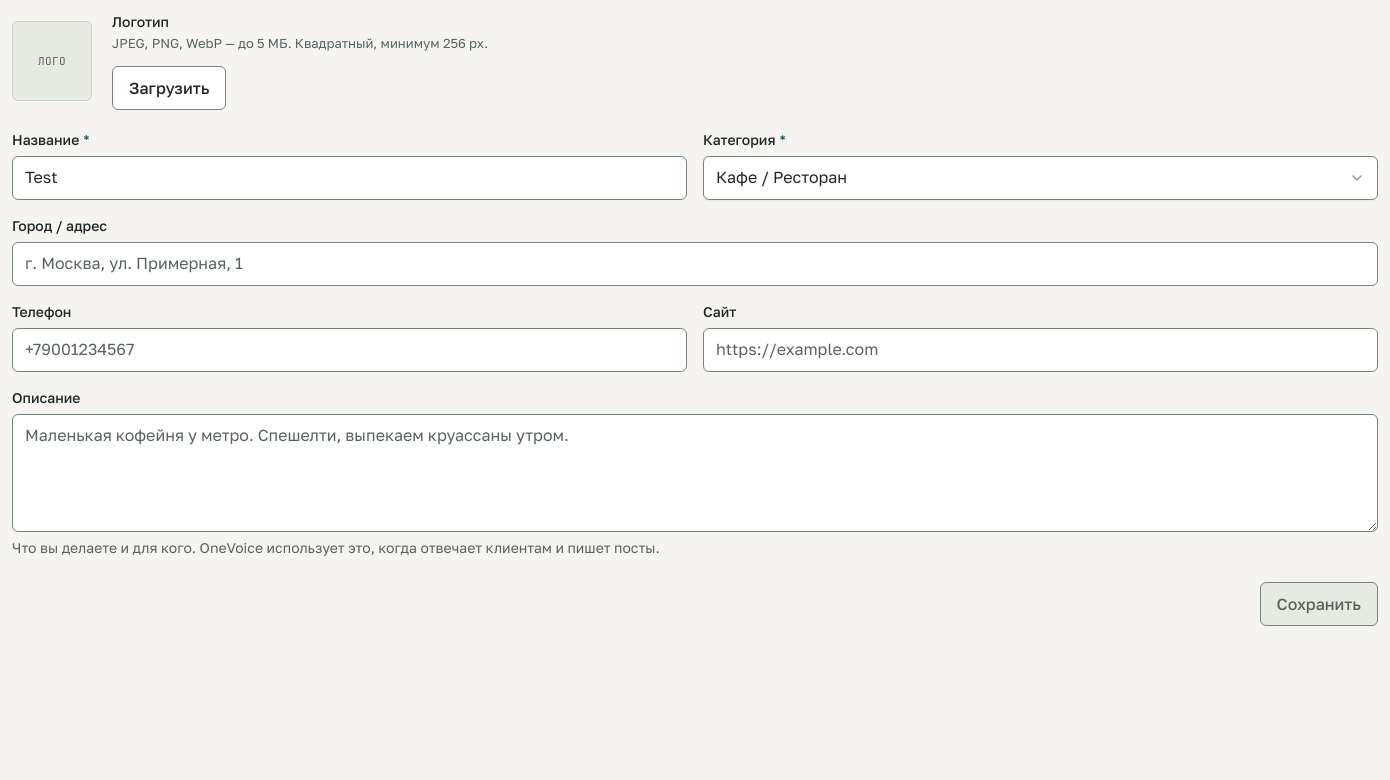
Scenario: shows a visibly labelled custom category only after choosing Other
Expected: the field labelled "Укажите свою категорию" is not shown
Click the dropdown named "Категория": click(782, 177) x1=703 y1=156 x2=1378 y2=200
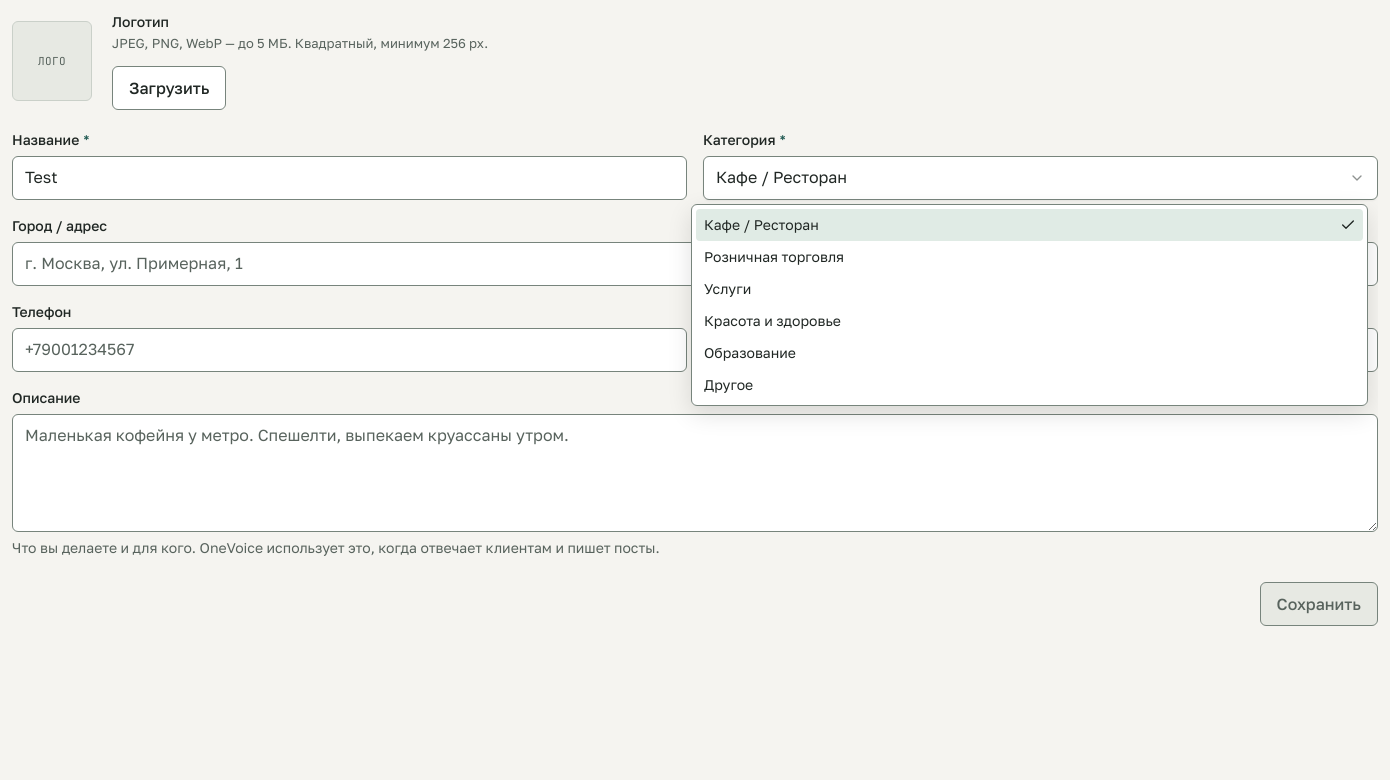
Click the option "Другое": click(729, 384) x1=704 y1=376 x2=753 y2=393
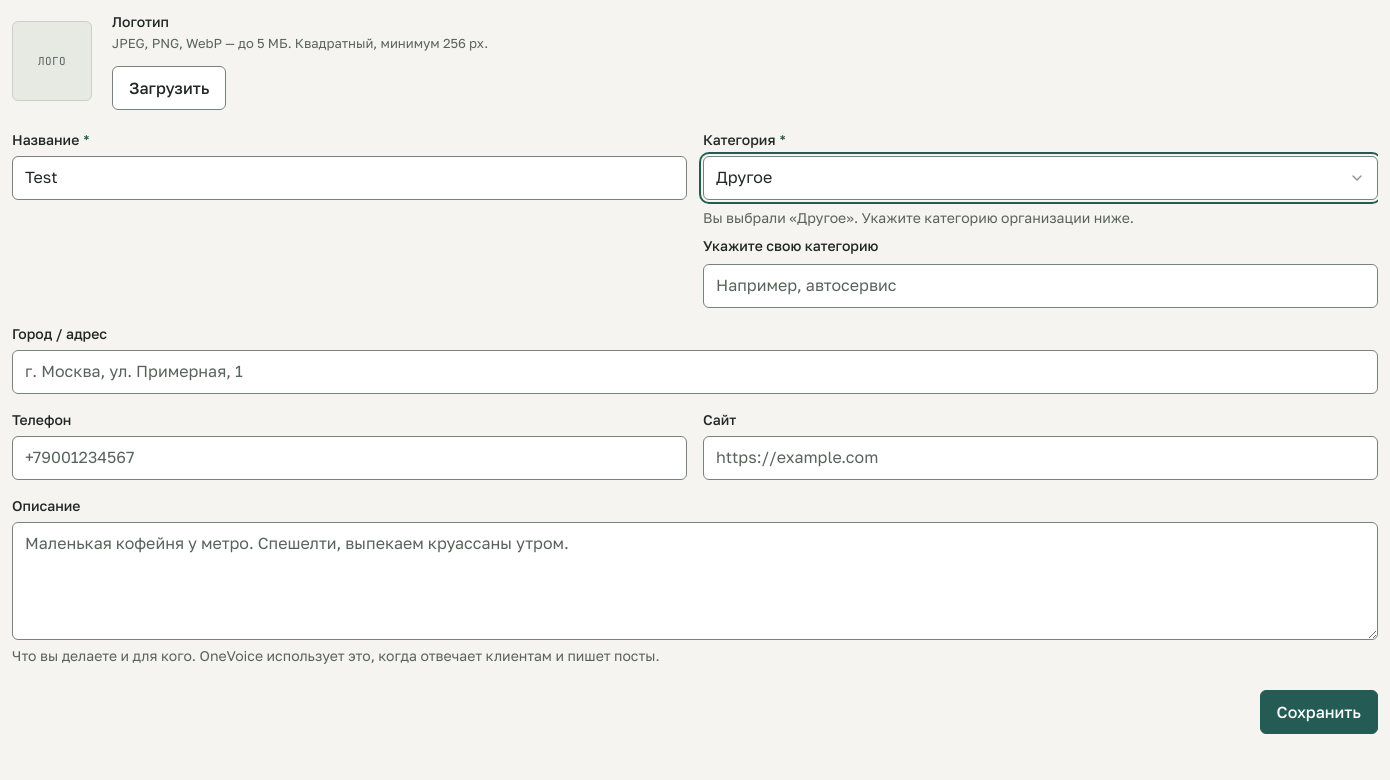
Result: the field labelled "Укажите свою категорию" is empty at x1=703 y1=264 x2=1378 y2=308
Click the text "Укажите свою категорию": click(791, 245) x1=703 y1=236 x2=878 y2=254
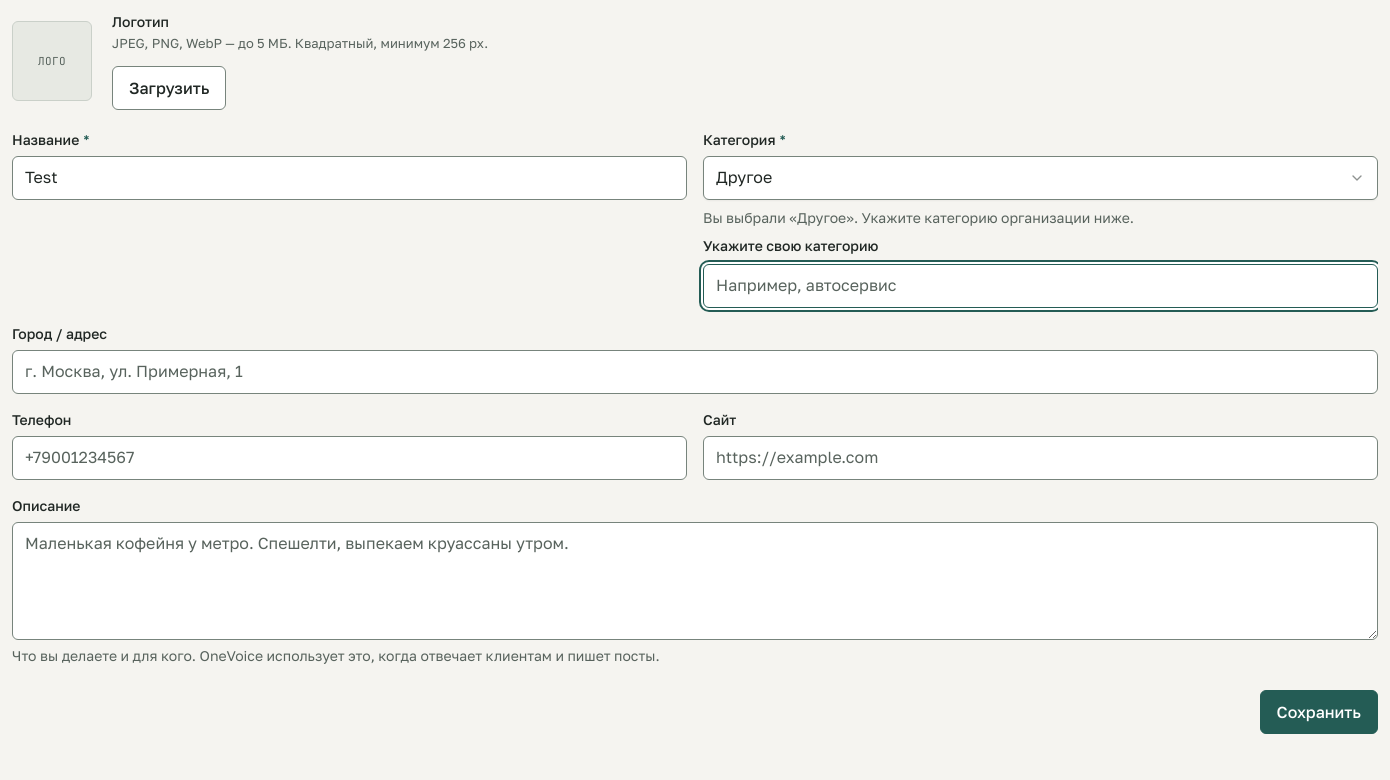
In the field labelled "Укажите свою категорию": (1040, 286) x1=703 y1=264 x2=1378 y2=308, type "Bakery"
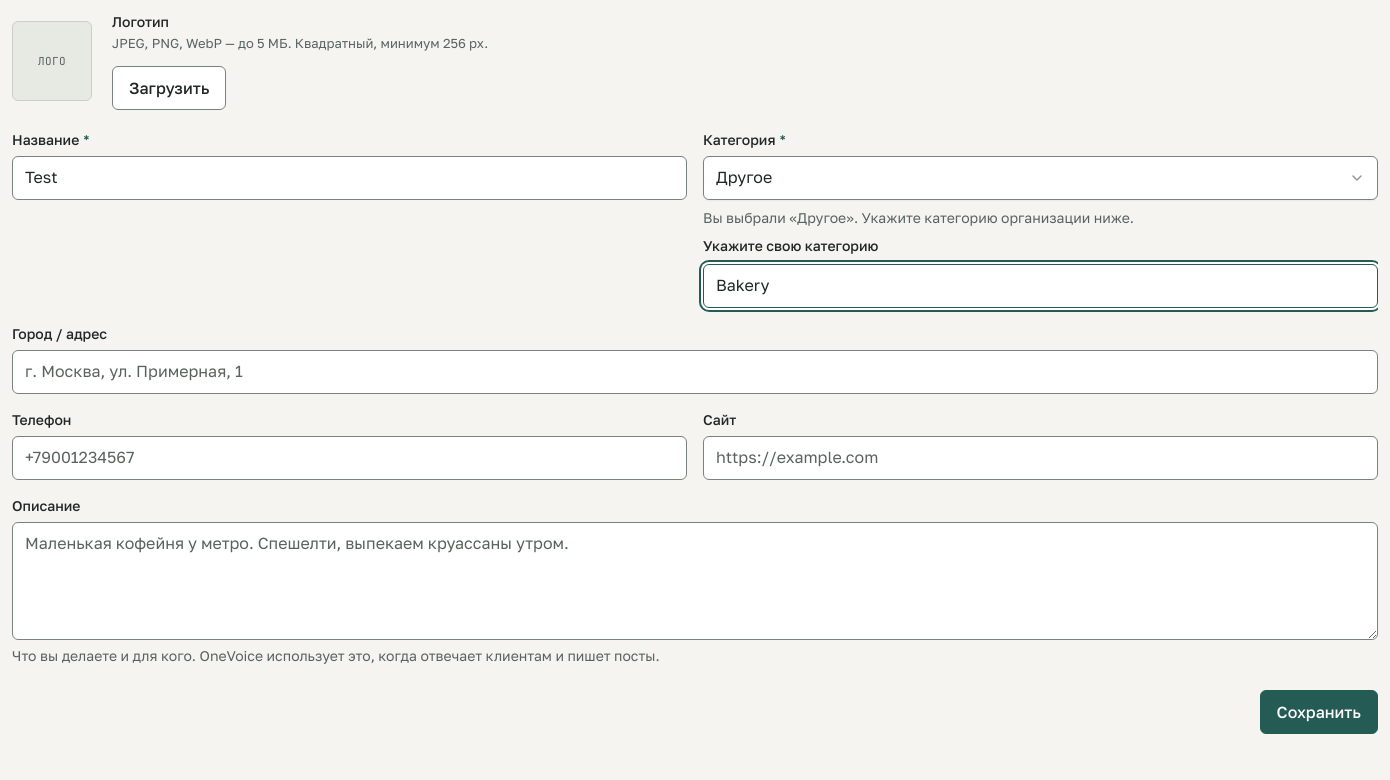
Click the dropdown: click(744, 177) x1=703 y1=156 x2=1378 y2=200
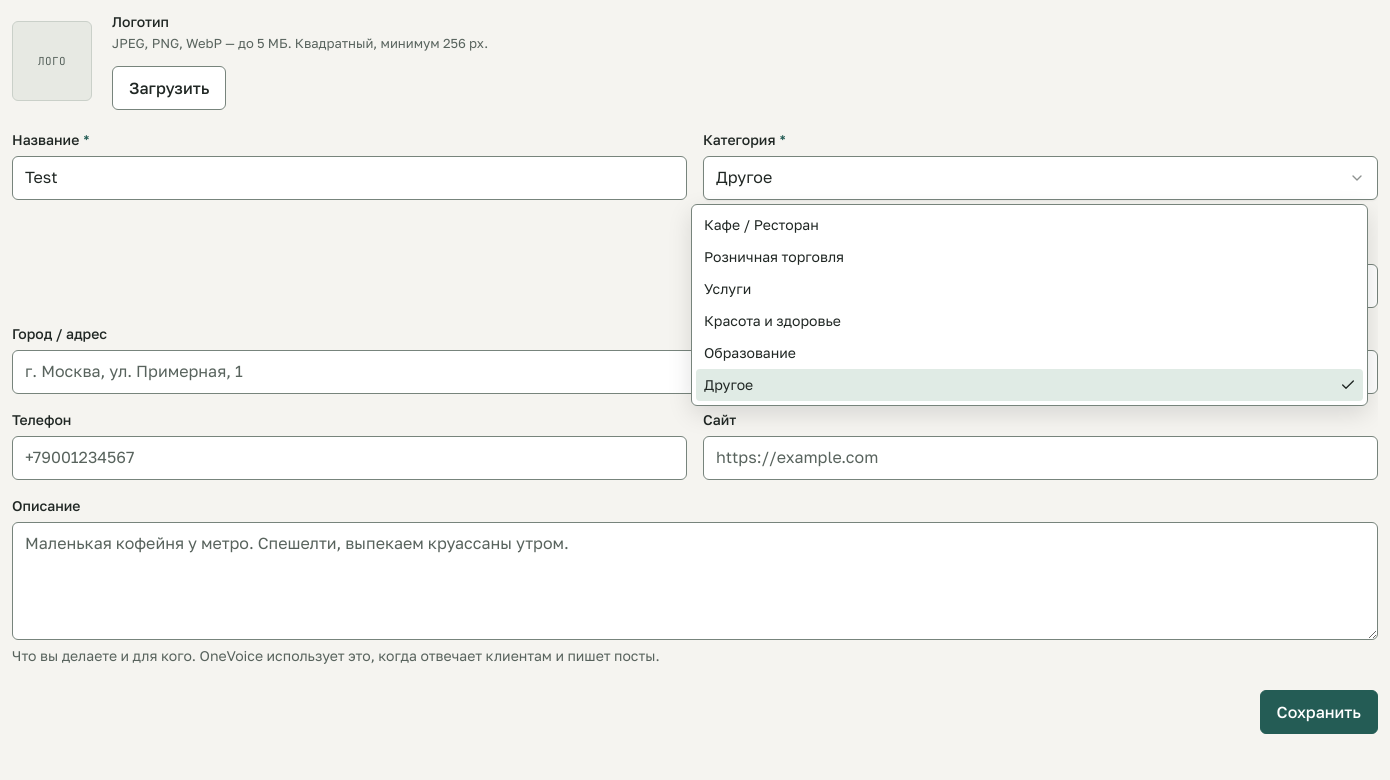
Click the option "Кафе / Ресторан": click(761, 224) x1=704 y1=216 x2=819 y2=233
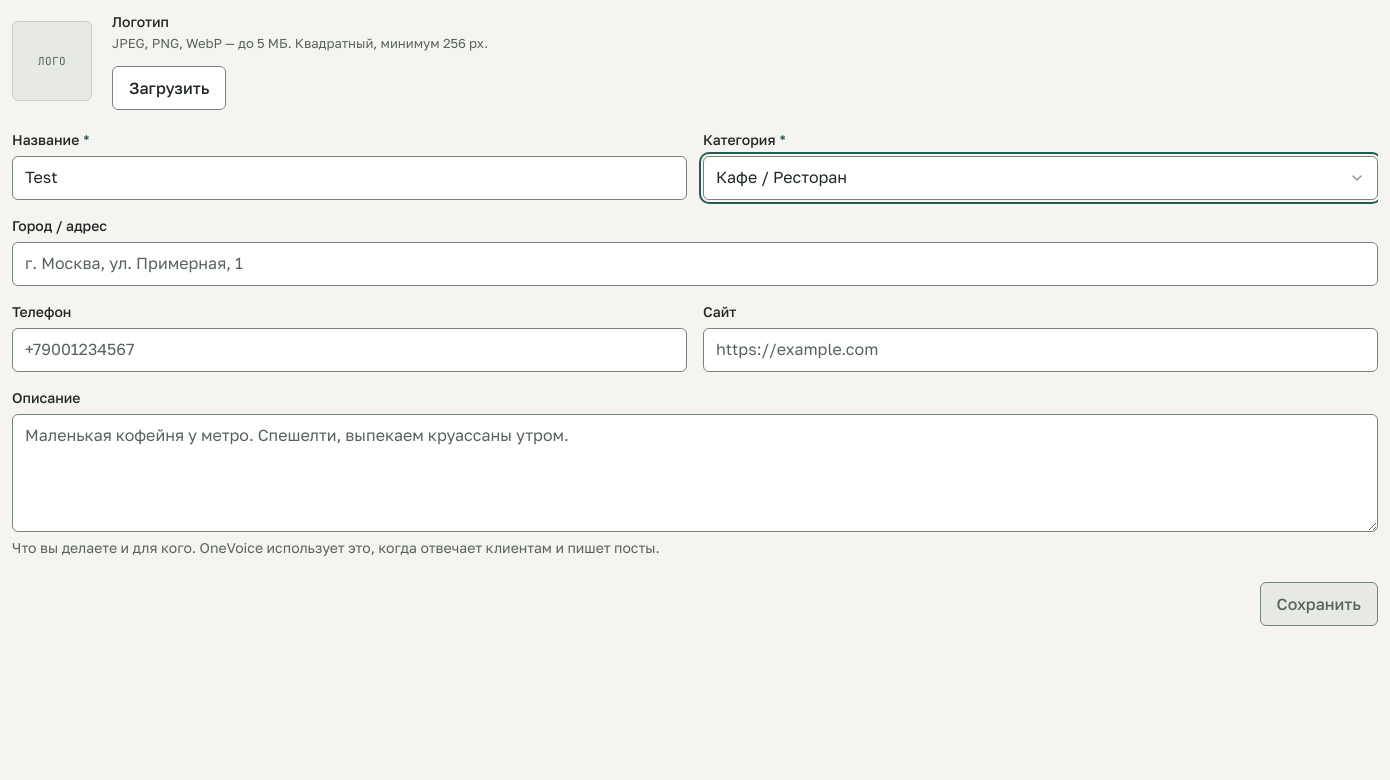
Result: the label "Укажите свою категорию" is gone
